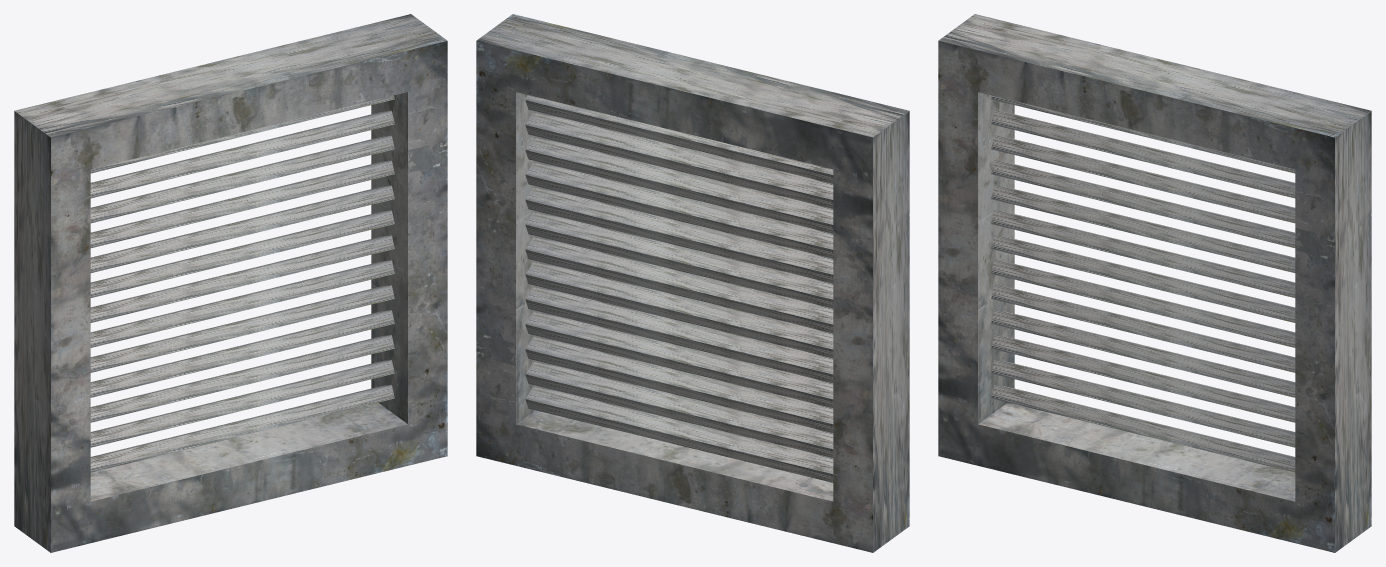
File: Gitter.fbx
3 views of the same model, side by side, from view 1: azimuth 30°, elevation 25°; view 2: azimuth 150°, elevation 25°; view 3: azimuth 330°, elevation 25° (orthographic).
Visible parts, largest first — view 1: pCube17, pasted__pasted__pCube25, pasted__pasted__pCube16, pasted__pasted__pCube19, pasted__pasted__pCube27, pasted__pasted__pCube20, pasted__pasted__pCube21, pasted__pasted__pCube22, pasted__pasted__pCube23, pasted__pasted__pCube26, pasted__pasted__pCube17, pasted__pasted__pCube18 (+2 smaller); view 2: pCube17, pasted__pasted__pCube27, pasted__pasted__pCube19, pasted__pasted__pCube25, pasted__pasted__pCube16, pasted__pasted__pCube17, pasted__pasted__pCube21, pasted__pasted__pCube18, pasted__pasted__pCube22, pasted__pasted__pCube23, pasted__pasted__pCube24, pasted__pasted__pCube26 (+2 smaller); view 3: pCube17, pasted__pasted__pCube25, pasted__pasted__pCube16, pasted__pasted__pCube19, pasted__pasted__pCube27, pasted__pasted__pCube20, pasted__pasted__pCube21, pasted__pasted__pCube22, pasted__pasted__pCube23, pasted__pasted__pCube26, pasted__pasted__pCube17, pasted__pasted__pCube18 (+2 smaller).
Part boxes in pixels (x1,y1,x2,y2): pCube17: [14, 14, 447, 552]; pasted__pasted__pCube25: [90, 335, 394, 422]; pasted__pasted__pCube16: [90, 384, 394, 472]; pasted__pasted__pCube19: [90, 160, 394, 248]; pasted__pasted__pCube27: [90, 110, 394, 198]; pasted__pasted__pCube20: [90, 210, 394, 297]; pasted__pasted__pCube21: [90, 235, 394, 322]; pasted__pasted__pCube22: [90, 260, 394, 347]; pasted__pasted__pCube23: [90, 310, 394, 397]; pasted__pasted__pCube26: [90, 359, 394, 447]; pasted__pasted__pCube17: [90, 135, 394, 223]; pasted__pasted__pCube18: [90, 185, 394, 272]; pCube17: [476, 14, 909, 552]; pasted__pasted__pCube27: [525, 111, 833, 208]; pasted__pasted__pCube19: [525, 160, 833, 258]; pasted__pasted__pCube25: [525, 335, 833, 432]; pasted__pasted__pCube16: [525, 385, 833, 482]; pasted__pasted__pCube17: [525, 136, 833, 233]; pasted__pasted__pCube21: [525, 235, 833, 333]; pasted__pasted__pCube18: [525, 185, 833, 283]; pasted__pasted__pCube22: [525, 260, 833, 357]; pasted__pasted__pCube23: [525, 310, 833, 407]; pasted__pasted__pCube24: [525, 285, 833, 382]; pasted__pasted__pCube26: [525, 360, 833, 457]; pCube17: [938, 14, 1371, 552]; pasted__pasted__pCube25: [991, 335, 1295, 422]; pasted__pasted__pCube16: [991, 384, 1295, 472]; pasted__pasted__pCube19: [991, 160, 1295, 248]; pasted__pasted__pCube27: [991, 110, 1295, 198]; pasted__pasted__pCube20: [991, 210, 1295, 297]; pasted__pasted__pCube21: [991, 235, 1295, 322]; pasted__pasted__pCube22: [991, 260, 1295, 347]; pasted__pasted__pCube23: [991, 310, 1295, 397]; pasted__pasted__pCube26: [991, 359, 1295, 447]; pasted__pasted__pCube17: [991, 135, 1295, 223]; pasted__pasted__pCube18: [991, 185, 1295, 272].
Size of the model in its own units: 12.5 by 12.5 by 2.
Materials: 1 (1 with a texture image).
